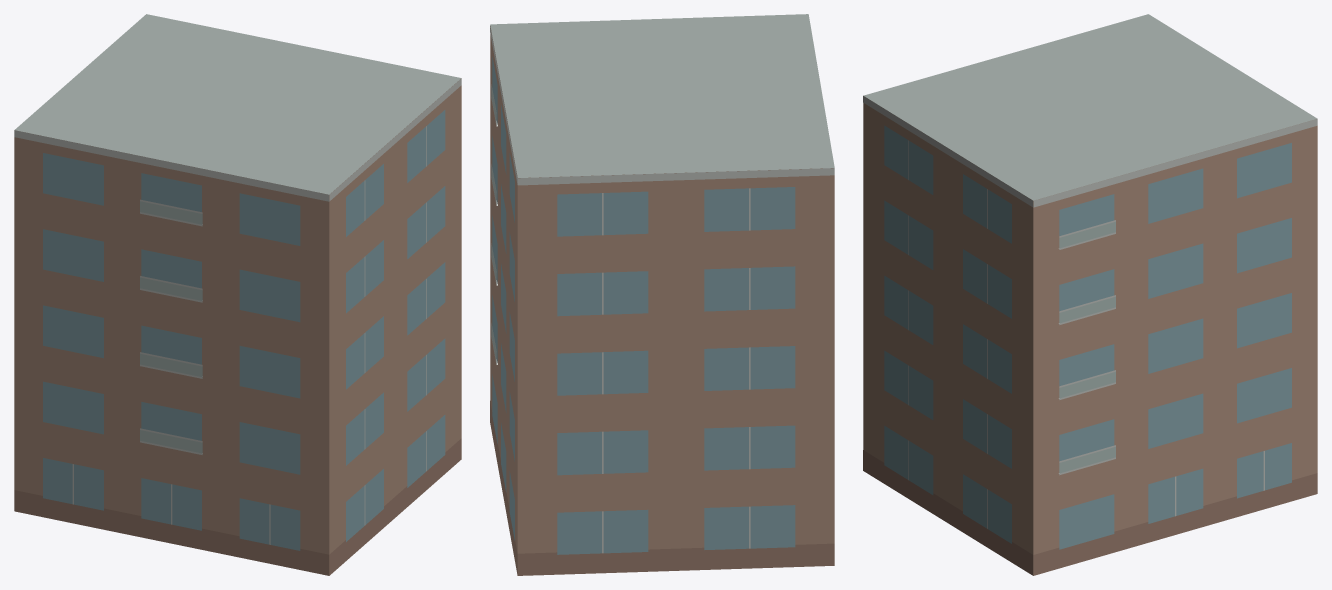
File: survey-upis-32886702.glb
3 renders of one model, left to right at view 1: azimuth 30°, elevation 25°; view 2: azimuth 150°, elevation 25°; view 3: azimuth 270°, elevation 25°, orthographic. The views are drawn at different scales.
Parts seen in each view (by area): view 1: survey-upis-32886702.tmp; view 2: survey-upis-32886702.tmp; view 3: survey-upis-32886702.tmp.
Boxes of the visible parts, x1=… form: survey-upis-32886702.tmp: x1=14, y1=14, x2=461, y2=575; survey-upis-32886702.tmp: x1=490, y1=14, x2=834, y2=575; survey-upis-32886702.tmp: x1=863, y1=14, x2=1317, y2=575.
Bounding box in the file's own units: 14.1 × 13.2 × 14.5.
